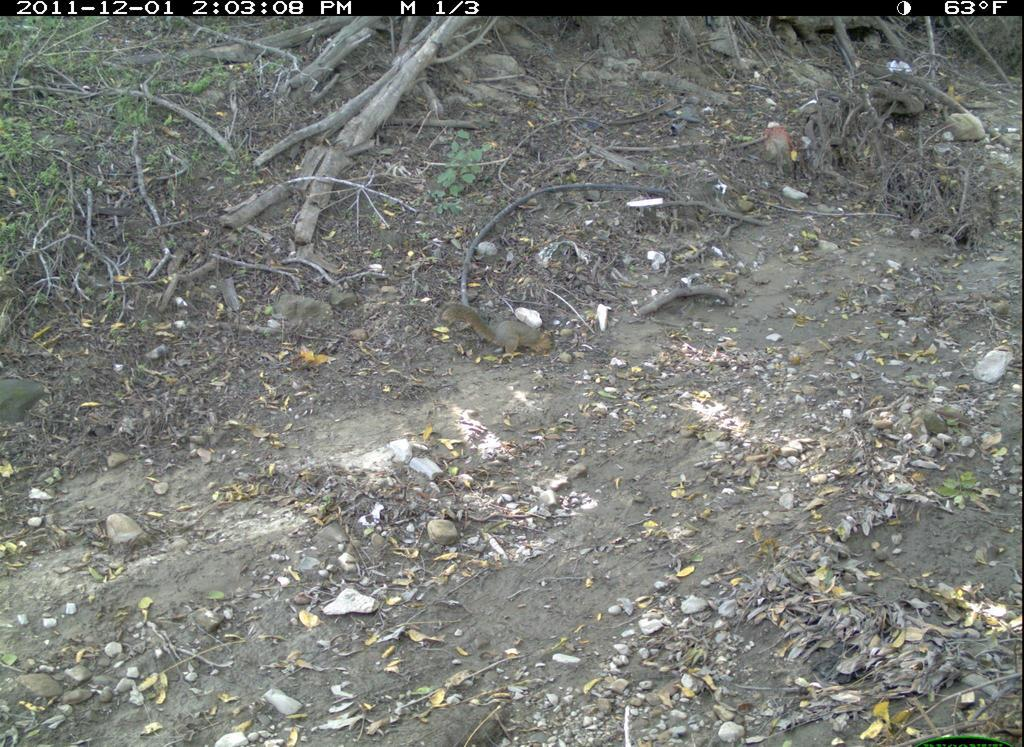squirrel: (438, 299, 563, 369)
